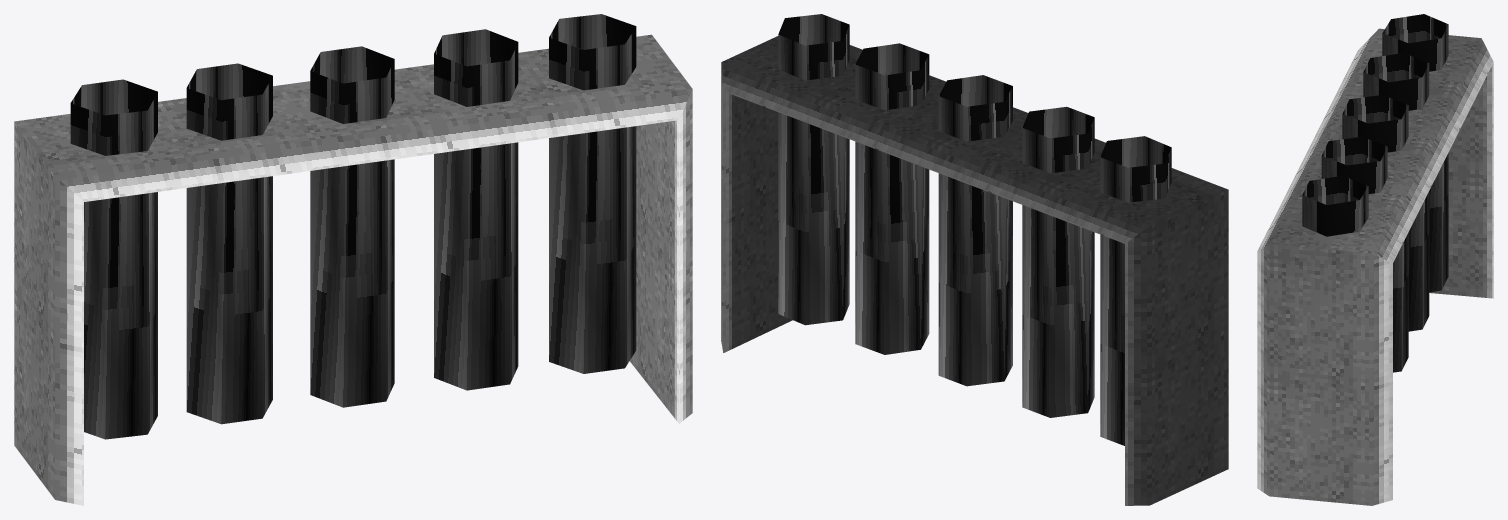
The model's file is Pglassware4Z.obj.
3 renders of one model, left to right at view 1: azimuth 30°, elevation 25°; view 2: azimuth 150°, elevation 25°; view 3: azimuth 270°, elevation 25°, orthographic. The views are drawn at different scales.
Size of the model in its own units: 306 by 180 by 136.
2 materials, 2 textured.
